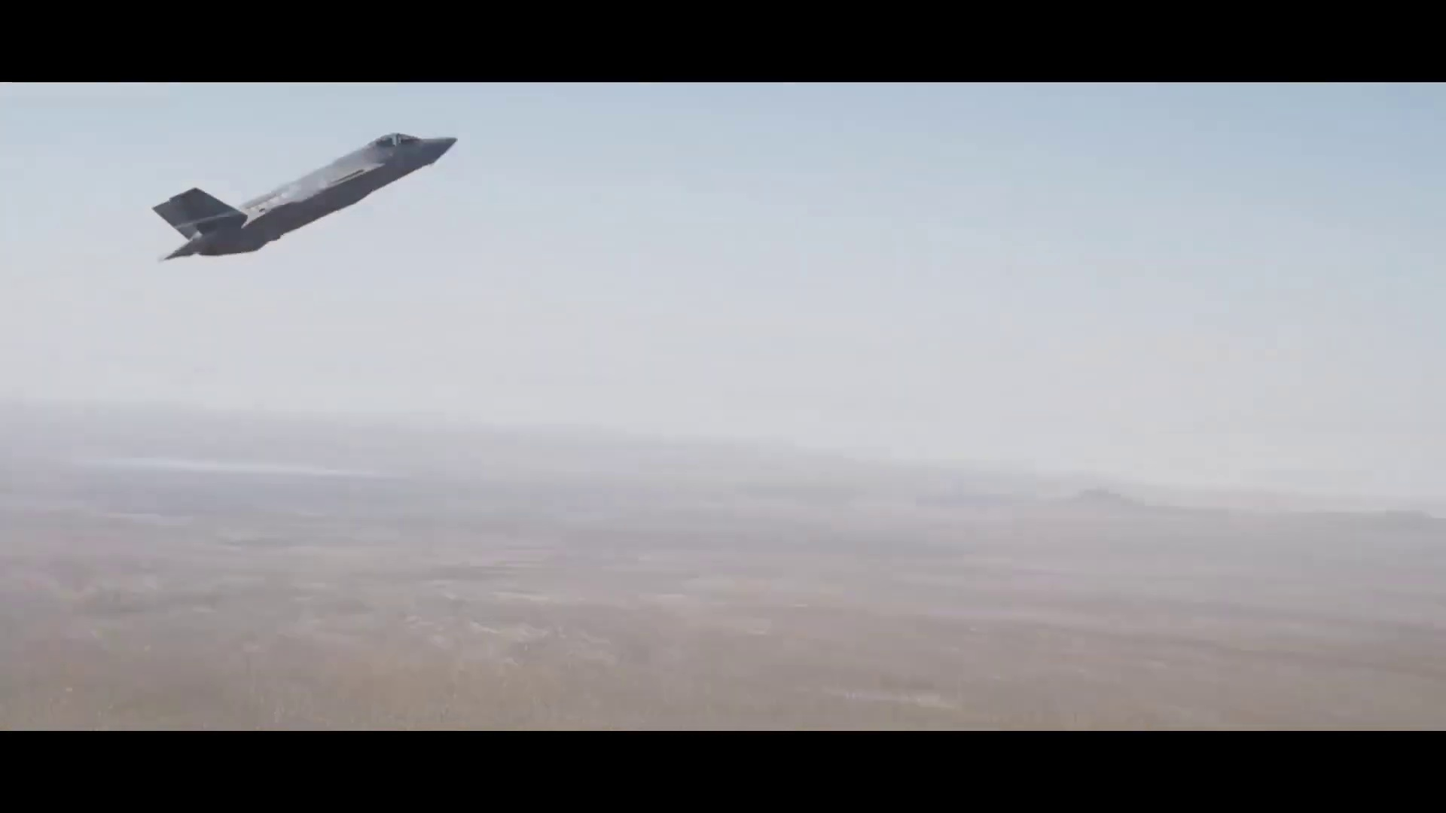F35: (150, 130, 458, 263)
